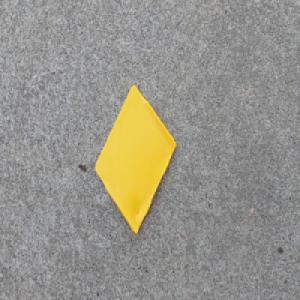PlasticPart: (93, 83, 177, 237)
